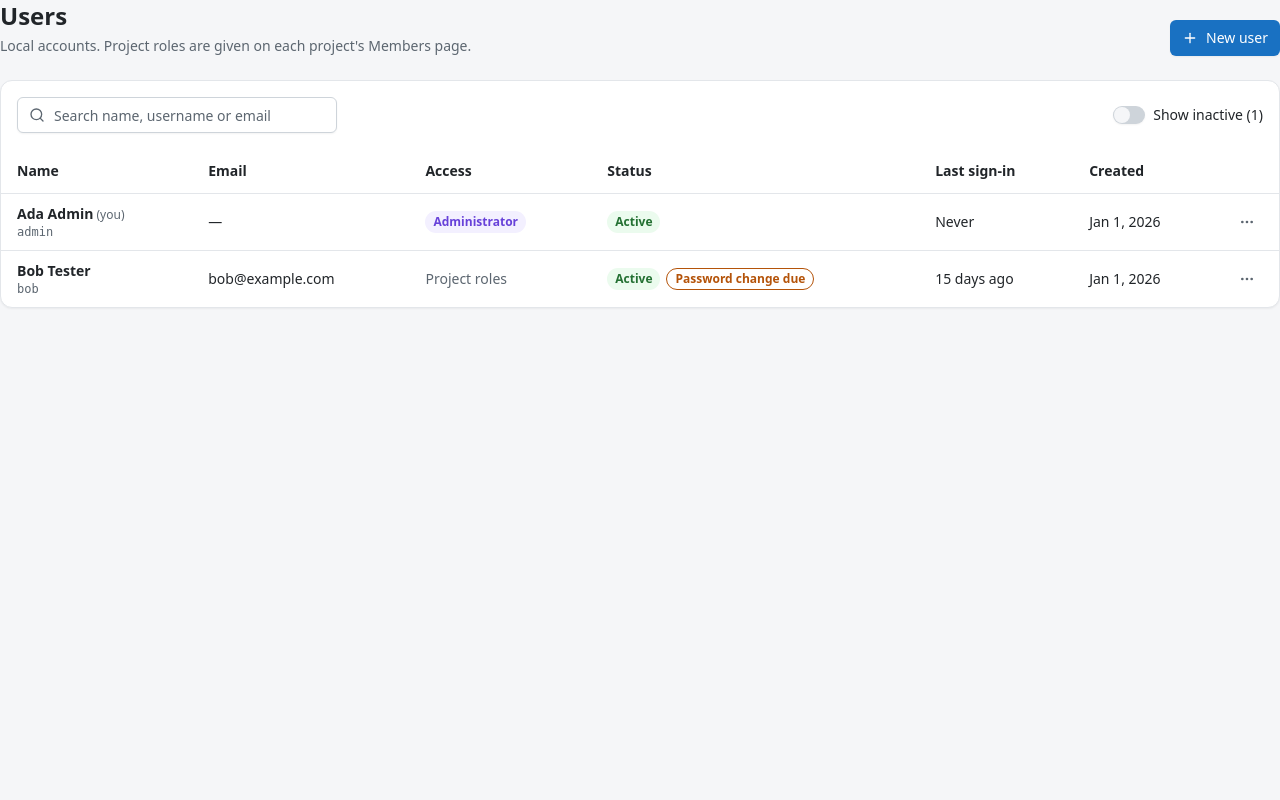
it: UsersPage › edits a user; administrators cannot demote or deactivate themselves
Click the button named "Actions for Bob Tester": click(1247, 278) top-left (1231, 262), bottom-right (1263, 294)
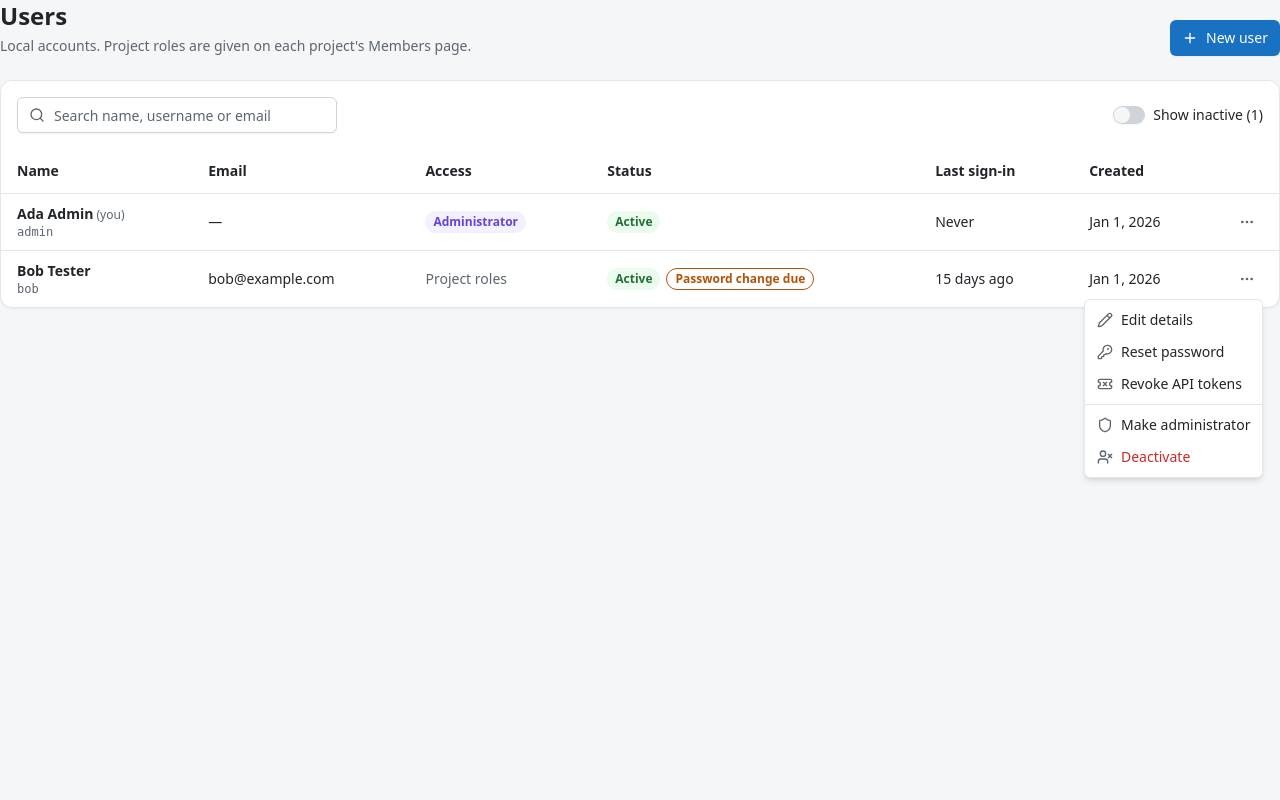
Click the menu item "Edit details": click(1145, 320) top-left (1097, 310), bottom-right (1193, 329)
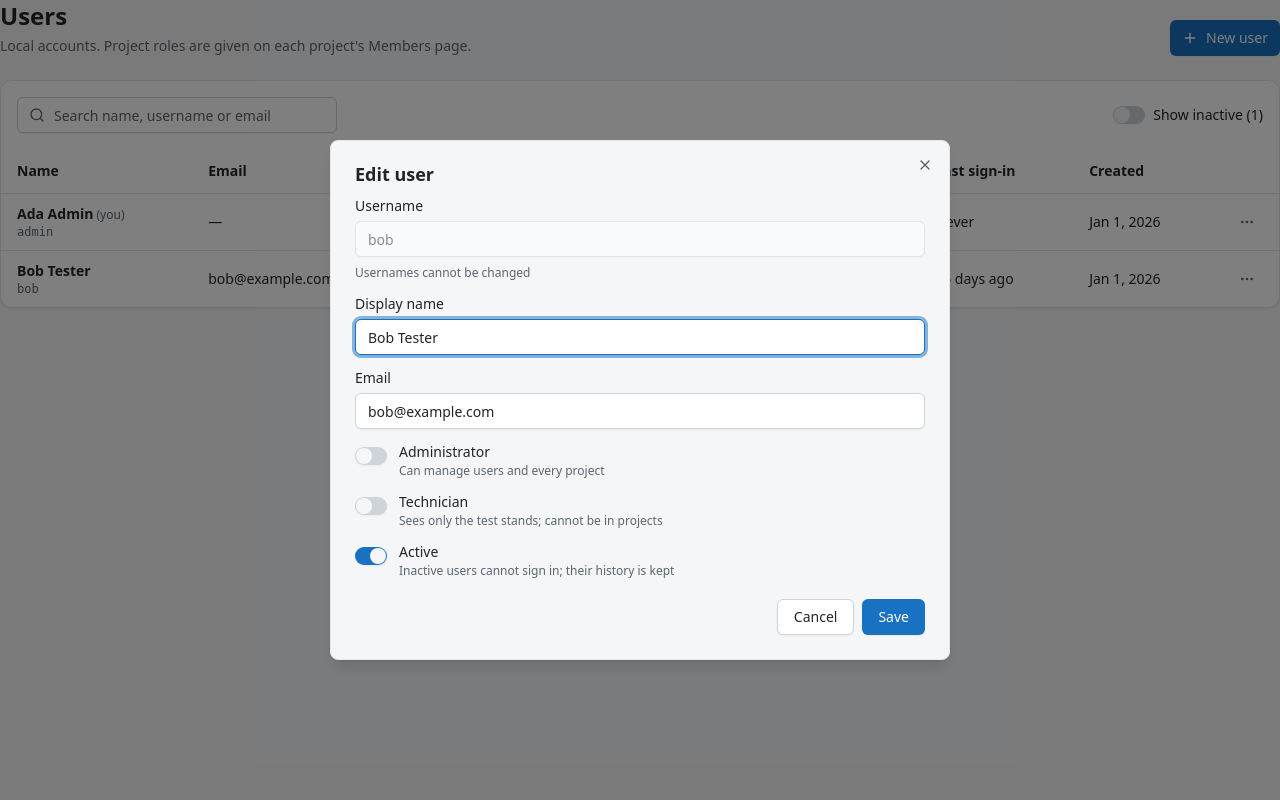
Expected: the field labelled "Username" is disabled, top-left (355, 221), bottom-right (925, 257)
Replace the text in the field labelled "Display name" with "Bob T.": (640, 337) top-left (355, 319), bottom-right (925, 355)
Click the switch named "Administrator" next to "Can manage users and every project": click(371, 456) top-left (355, 447), bottom-right (387, 465)
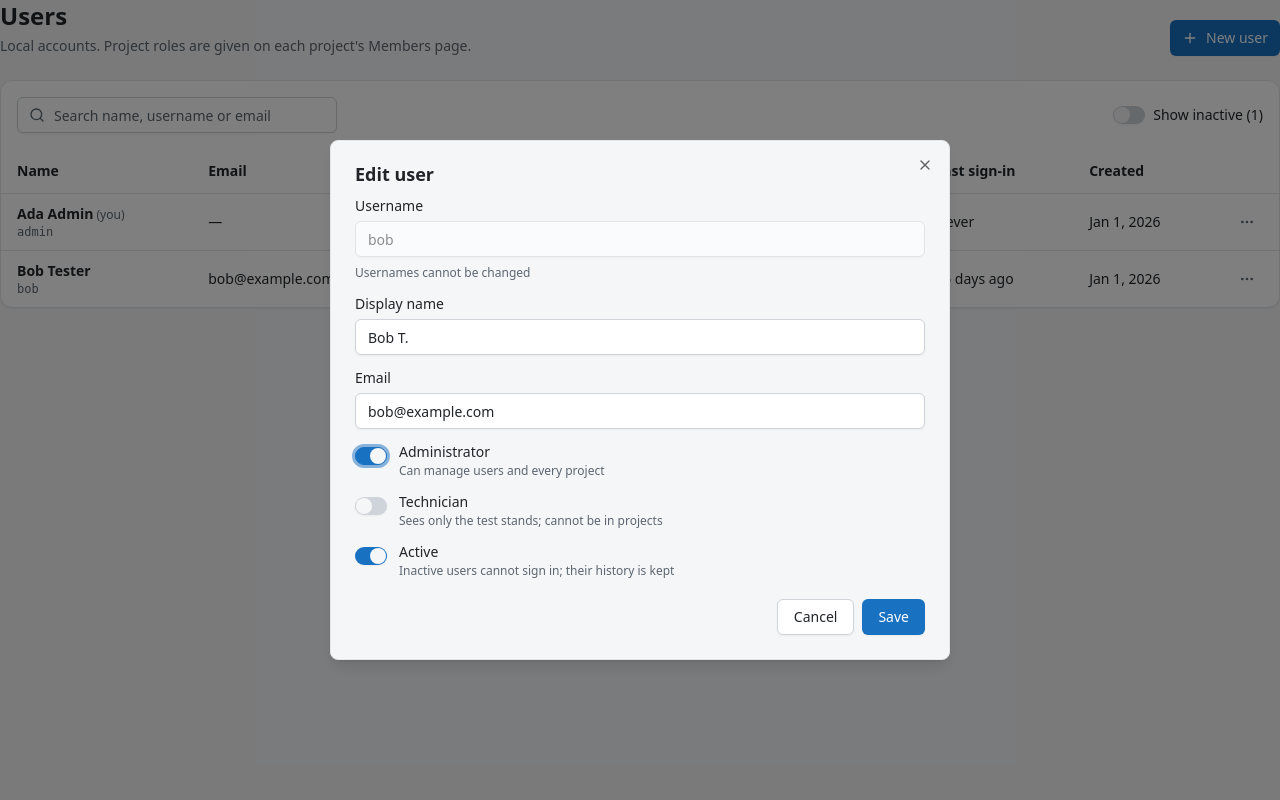
Click the button "Save": click(894, 617) top-left (862, 599), bottom-right (925, 635)
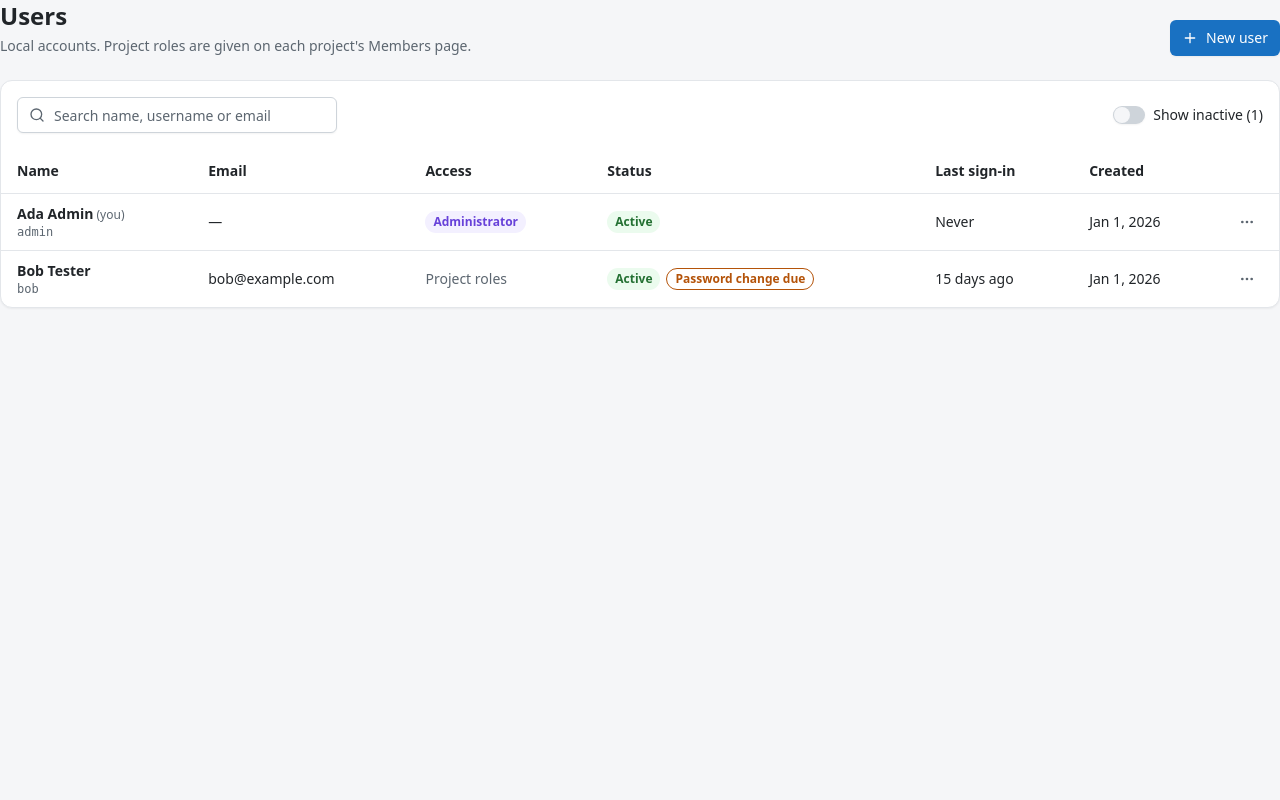
Click the button named "Actions for Ada Admin": click(1247, 222) top-left (1231, 206), bottom-right (1263, 238)
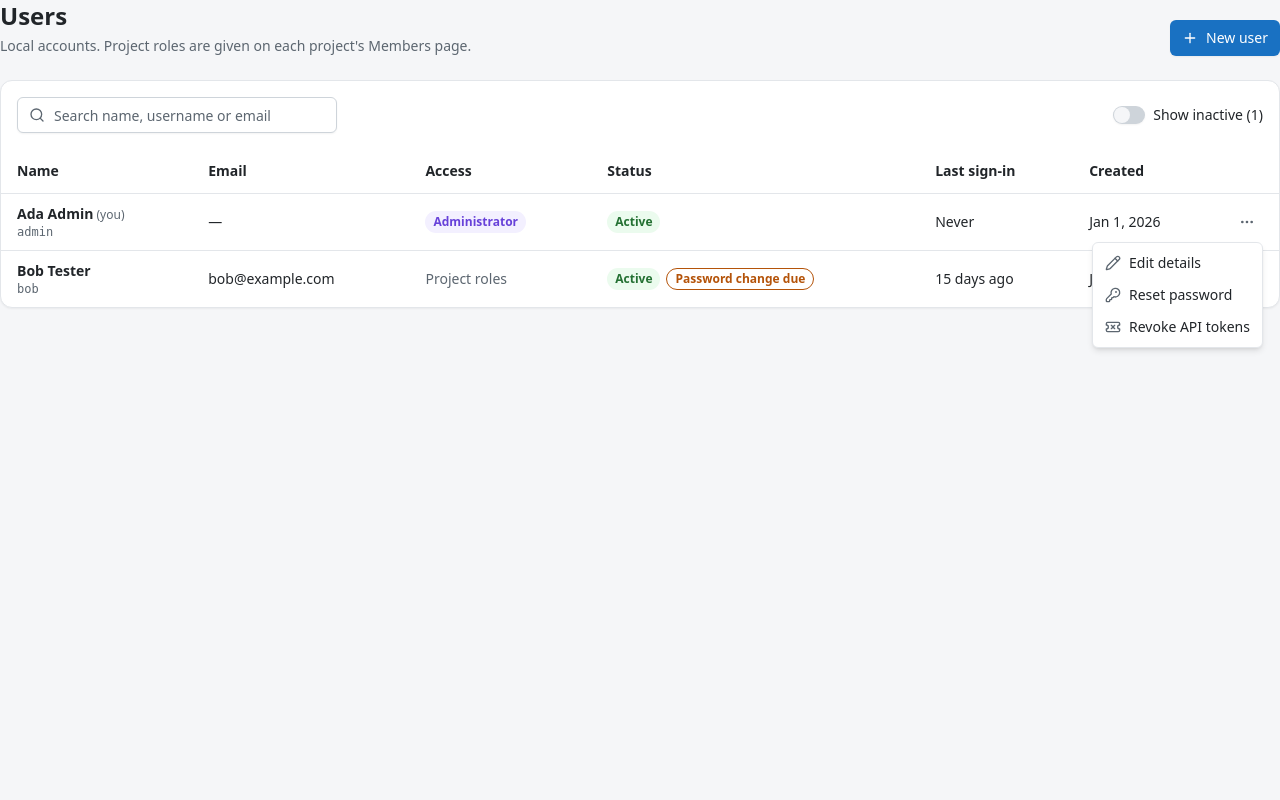
Click the menu item "Edit details": click(1153, 262) top-left (1105, 253), bottom-right (1201, 272)
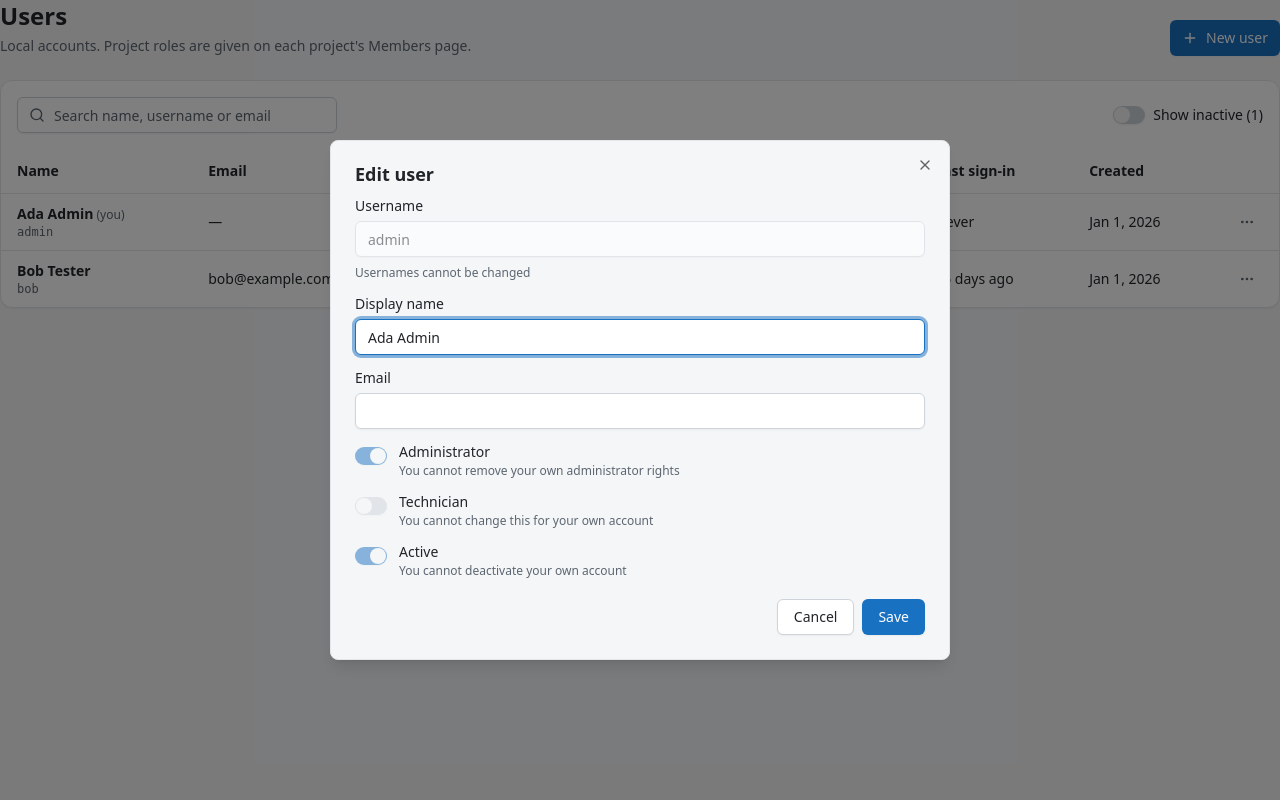
Expected: the 1st switch named "Administrator" is disabled, top-left (355, 447), bottom-right (387, 465)
Expected: the switch named "Active" next to "You cannot deactivate your own account" is disabled, top-left (355, 547), bottom-right (387, 565)
Expected: the text "You cannot deactivate your own account" is shown, top-left (399, 563), bottom-right (627, 579)
